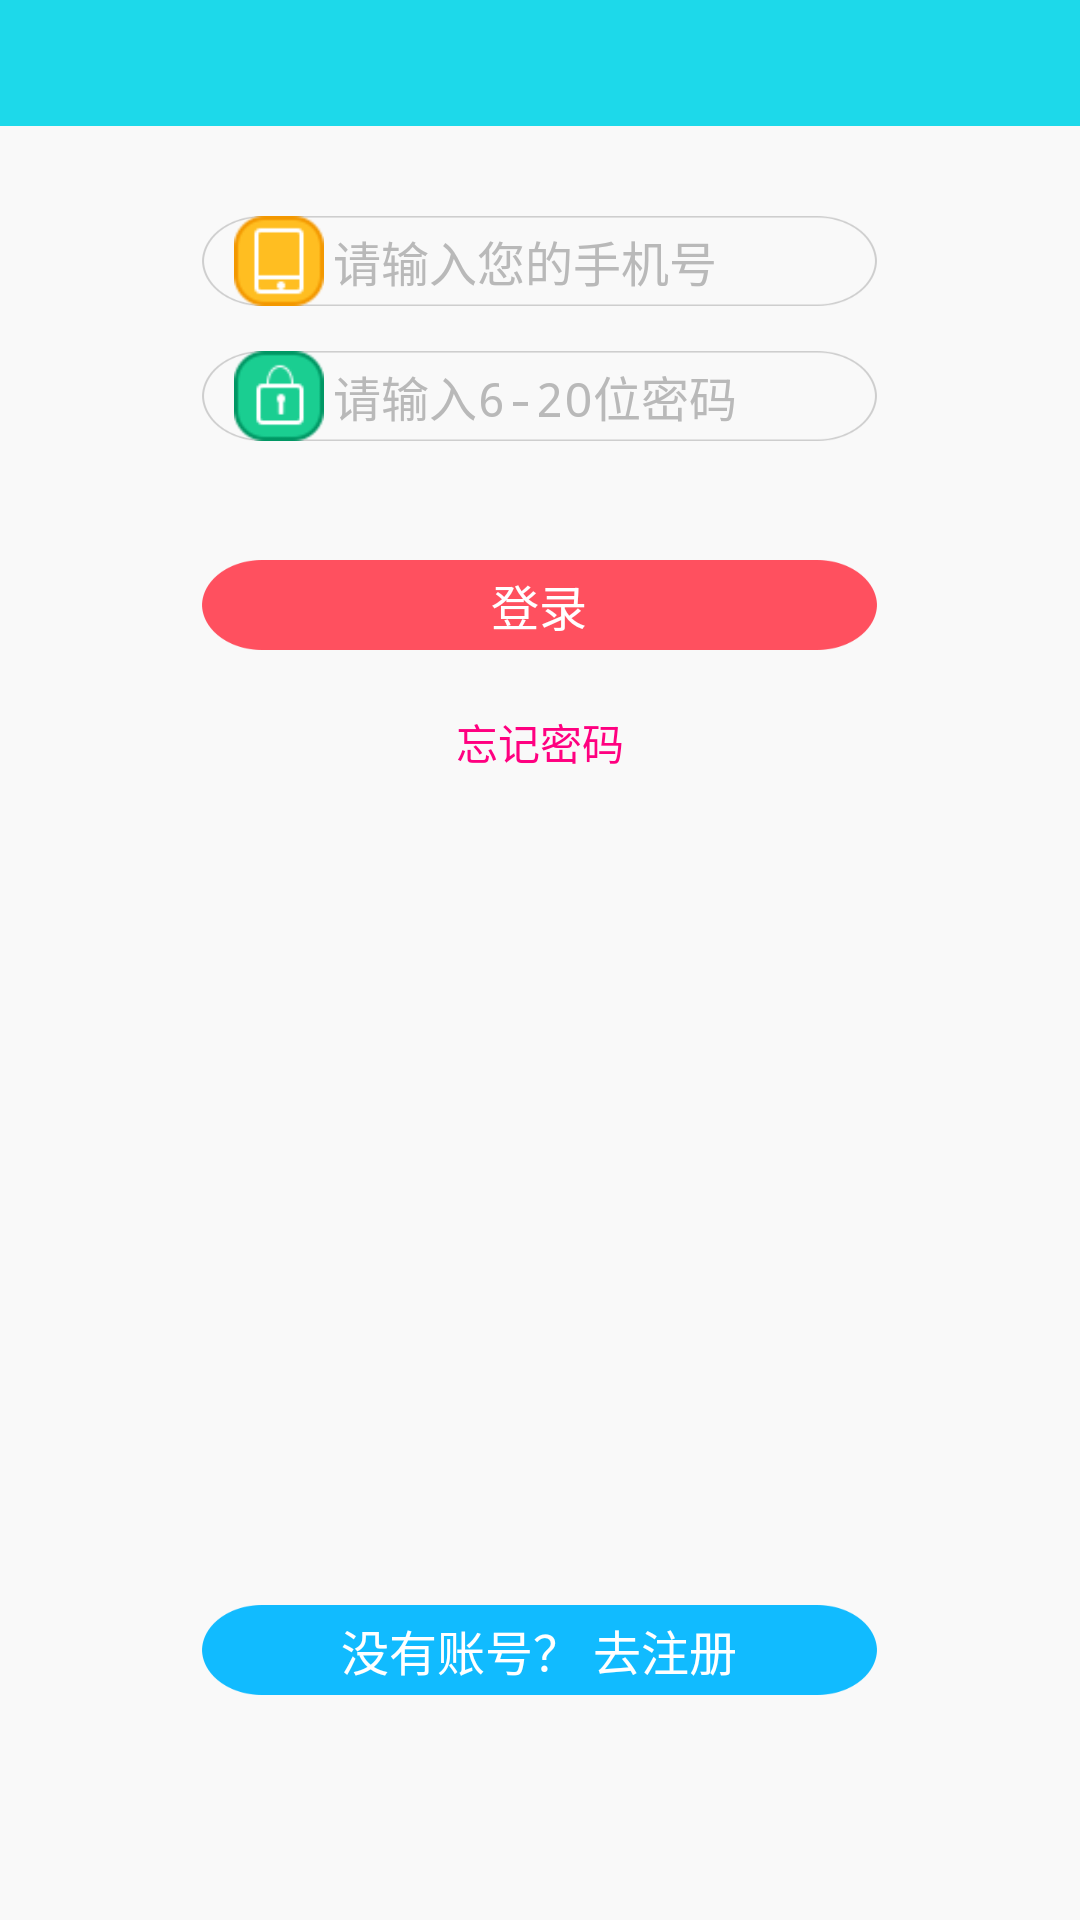

Where icons sit on this 1080px×1920px app screen, as [left=x1, top=y1, right=x2, bottom=y2]:
password: [left=225, top=351, right=333, bottom=441]
phone: [left=225, top=216, right=333, bottom=306]
